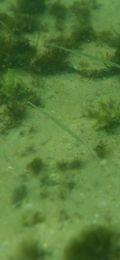Fistularia commersonii: (23, 95, 114, 169)
